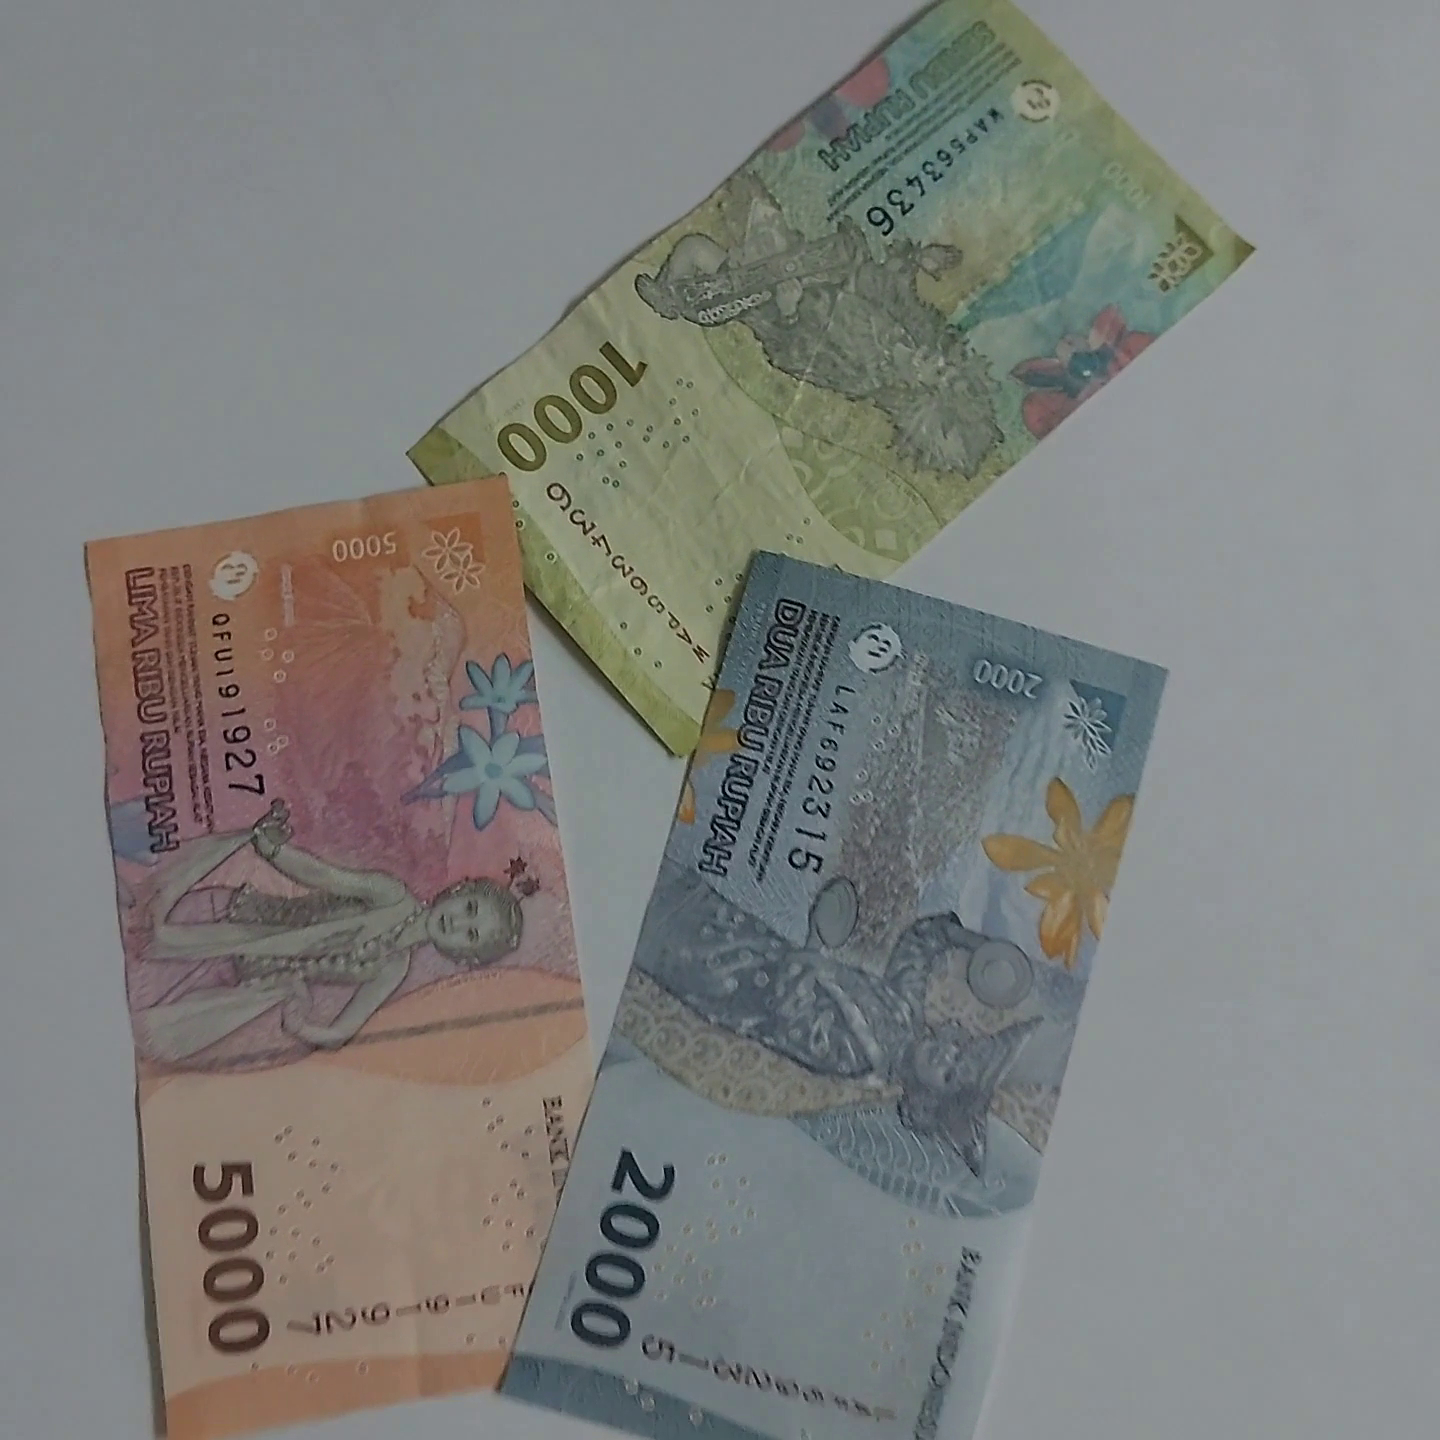1k: (957, 0, 1342, 699)
2k: (760, 559, 1195, 1353)
5k: (42, 541, 520, 1436)
